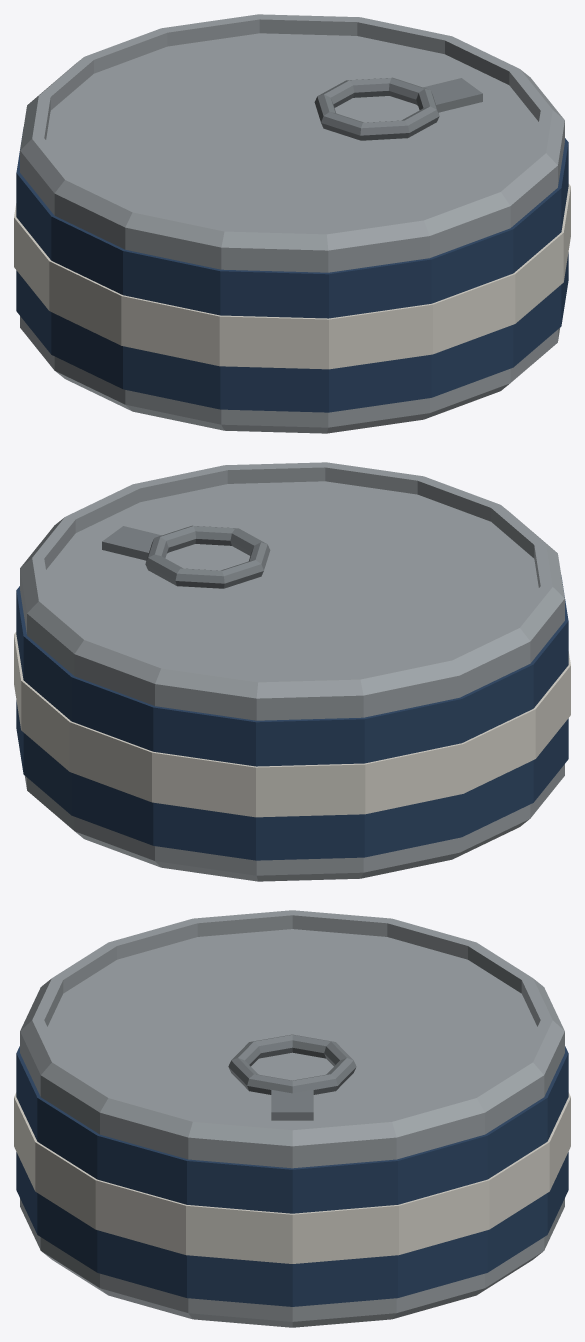
Rendered from thon.glb.
3 views of the same model, one above another, from view 1: azimuth 30°, elevation 25°; view 2: azimuth 150°, elevation 25°; view 3: azimuth 270°, elevation 25° (orthographic).
Parts seen in each view (by area): view 1: can, label, band, ring, tab; view 2: can, label, band, ring, tab; view 3: can, label, band, ring, tab.
Part boxes in pixels (x1,y1,x2,y2): can: [20, 14, 564, 433]; label: [16, 127, 568, 412]; band: [14, 184, 570, 369]; ring: [314, 77, 439, 140]; tab: [417, 78, 482, 112]; can: [20, 462, 564, 881]; label: [16, 575, 568, 860]; band: [14, 632, 570, 817]; ring: [145, 525, 270, 588]; tab: [102, 526, 167, 560]; can: [20, 910, 564, 1327]; label: [16, 1046, 568, 1306]; band: [14, 1092, 570, 1263]; ring: [228, 1034, 356, 1094]; tab: [271, 1090, 313, 1120].
Bounding box in the file's own units: 0.092 × 0.0366 × 0.092.
Materials: 4 (4 with a texture image).
